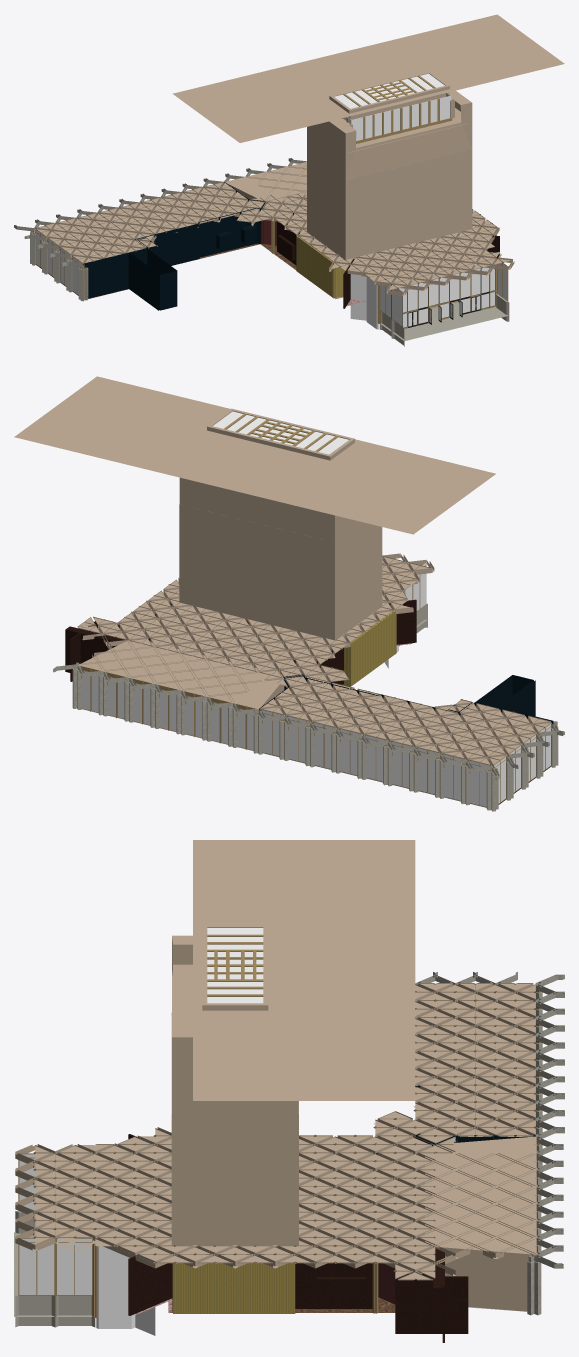
The model's file is Chancery Rosewood_LOBBY and pav_BAKE_V4.glb.
3 renders of one model, top to bottom at view 1: azimuth 30°, elevation 25°; view 2: azimuth 150°, elevation 25°; view 3: azimuth 270°, elevation 25°, orthographic. The views are drawn at different scales.
Parts seen in each view (by area): view 1: ATRIUM_LOW, WEST PAVILLION_LOW, LOBBY_LOW, ENTRANCE_LOW, BackLobby; view 2: ATRIUM_LOW, WEST PAVILLION_LOW, LOBBY_LOW, BackLobby, ENTRANCE_LOW; view 3: ATRIUM_LOW, LOBBY_LOW, WEST PAVILLION_LOW, BackLobby, ENTRANCE_LOW.
Part boxes in pixels (x1,y1,x2,y2): ATRIUM_LOW: [172, 14, 564, 259]; WEST PAVILLION_LOW: [14, 178, 281, 310]; LOBBY_LOW: [236, 189, 514, 308]; ENTRANCE_LOW: [343, 251, 509, 346]; BackLobby: [221, 158, 306, 202]; ATRIUM_LOW: [14, 376, 495, 640]; WEST PAVILLION_LOW: [253, 670, 564, 811]; LOBBY_LOW: [65, 553, 434, 686]; BackLobby: [53, 640, 284, 750]; ENTRANCE_LOW: [384, 561, 427, 668]; ATRIUM_LOW: [171, 840, 415, 1245]; LOBBY_LOW: [15, 1111, 468, 1342]; WEST PAVILLION_LOW: [413, 972, 564, 1195]; BackLobby: [425, 1134, 563, 1315]; ENTRANCE_LOW: [14, 1153, 168, 1335].
Size of the model in its own units: 71.2 by 30.4 by 46.8.
36 materials, 11 textured.
